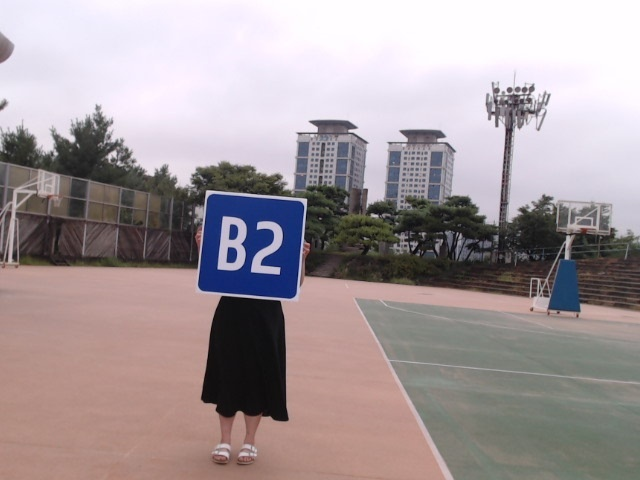delivery_b2: (197, 192, 306, 300)
